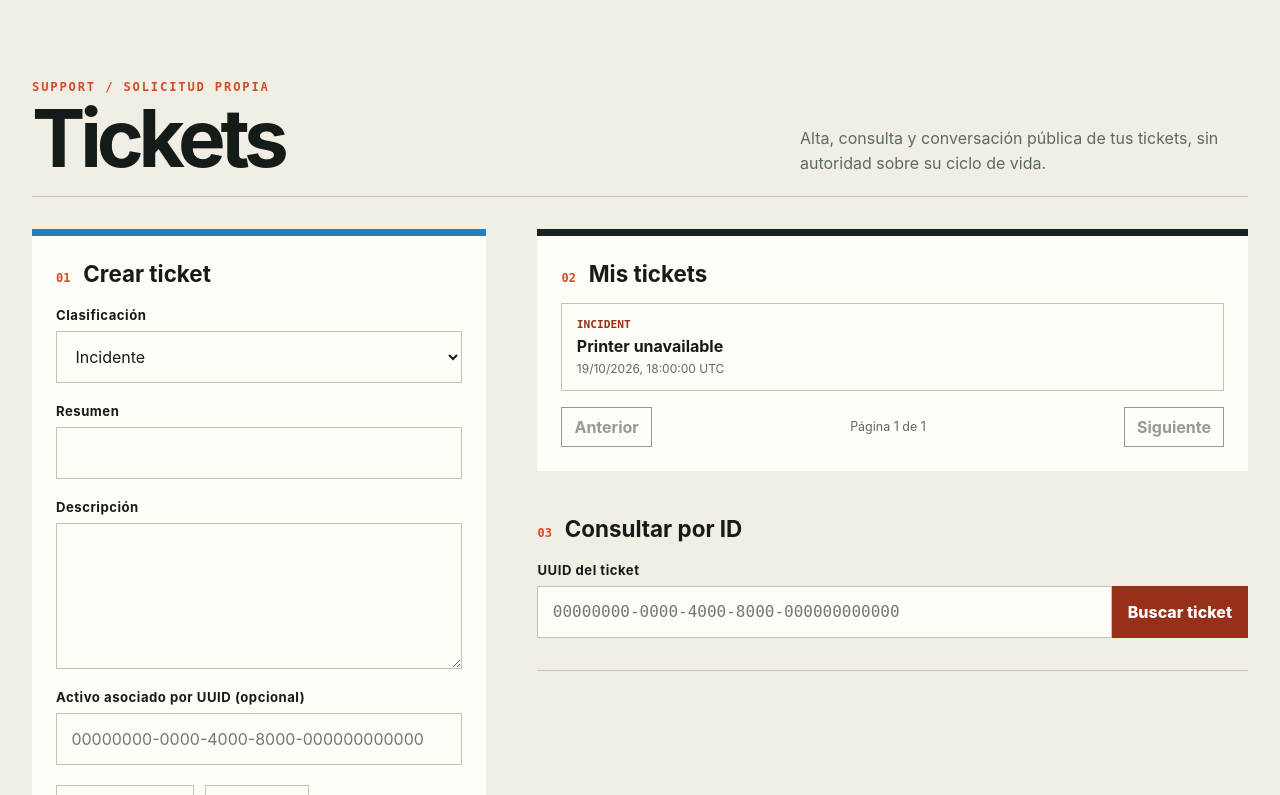
Test: TicketWorkspace › shows the public lifecycle and reopens without optimistic state
This screenshot has width=1280, height=795.
Click the button "INCIDENT Printer unavailable 19/10/2026, 18:00:00 UTC" at [604, 324], box [562,303,1224,391]
(page scrolled)
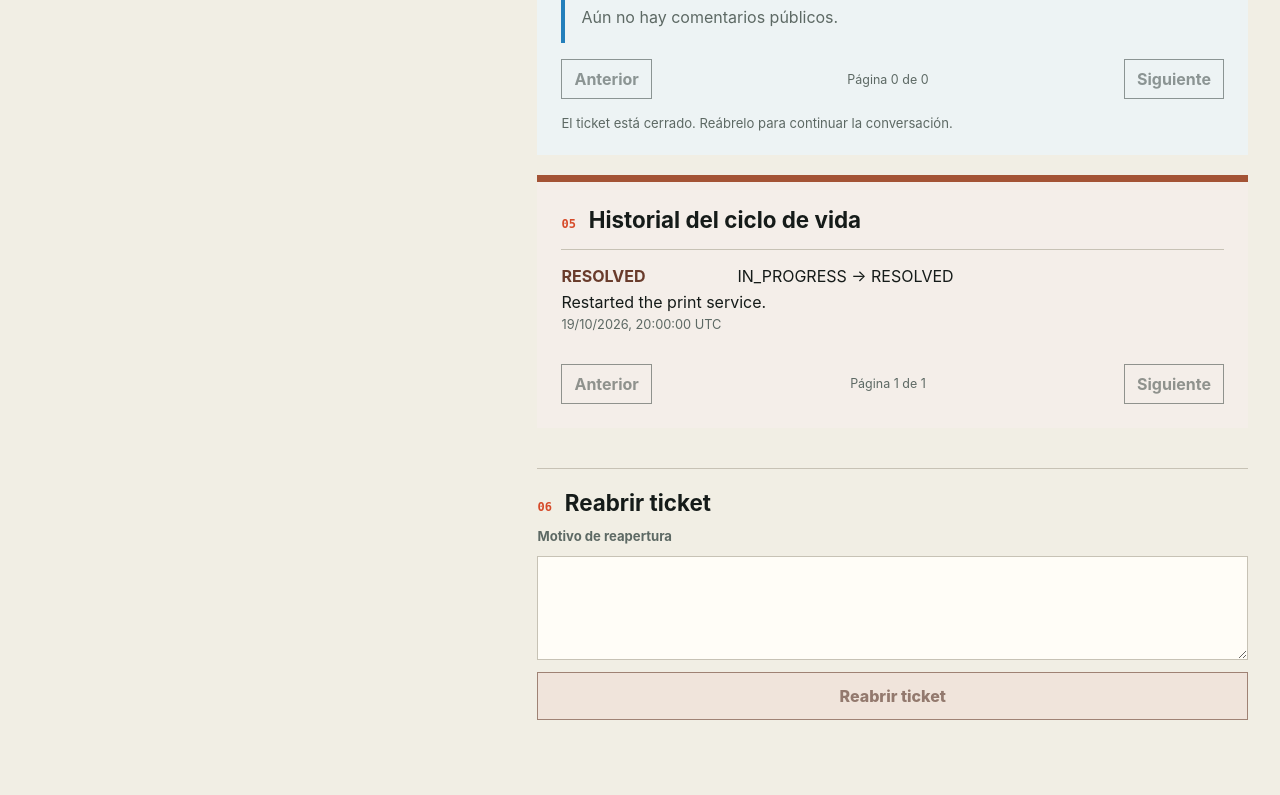
Expected: the field labelled "Añadir comentario público" is not shown
Now the text "Restarted the print service." is shown, box [562,292,766,312]
Type "  The fault returned.  " into the text box labelled "Motivo de reapertura" at [893, 608], box [538,556,1248,660]
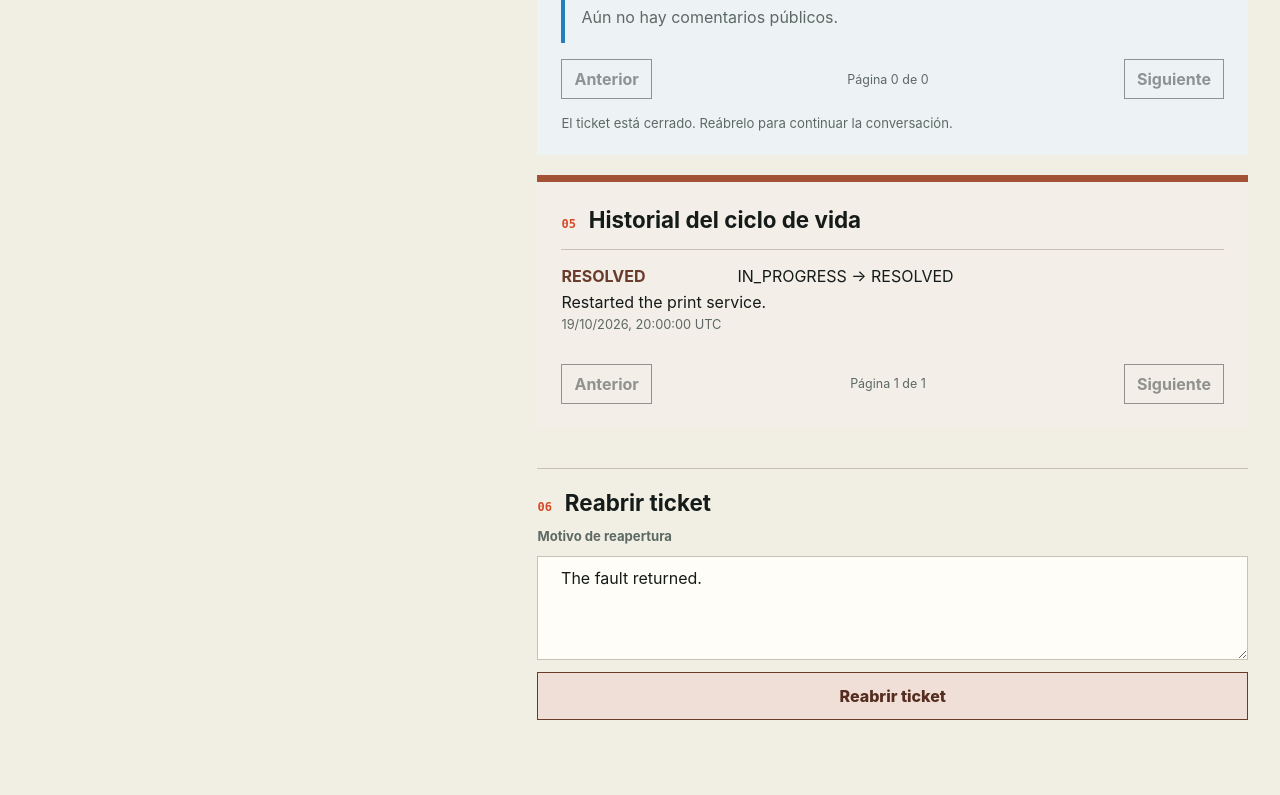
Click the button "Reabrir ticket" at [893, 696], box [538,672,1248,720]
(page scrolled)
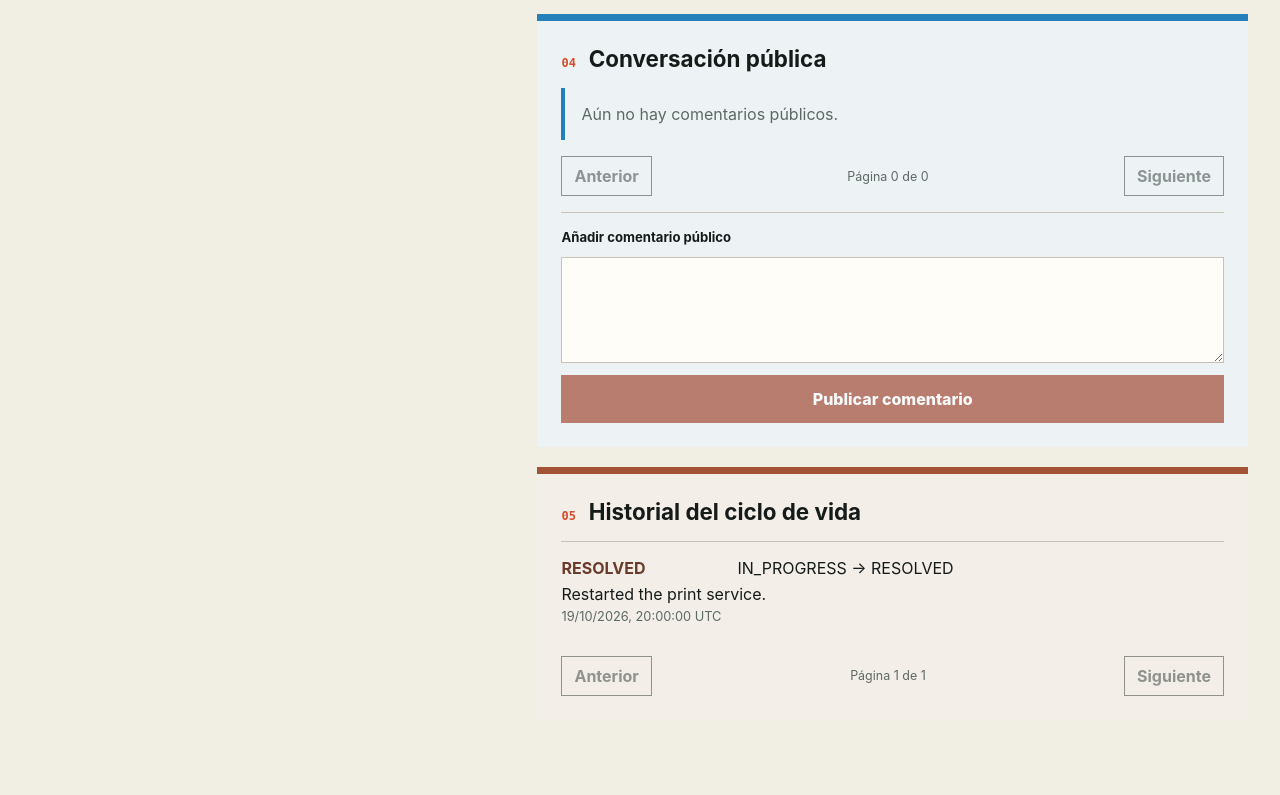
Now the text box labelled "Añadir comentario público" is shown, box [562,257,1224,363]
